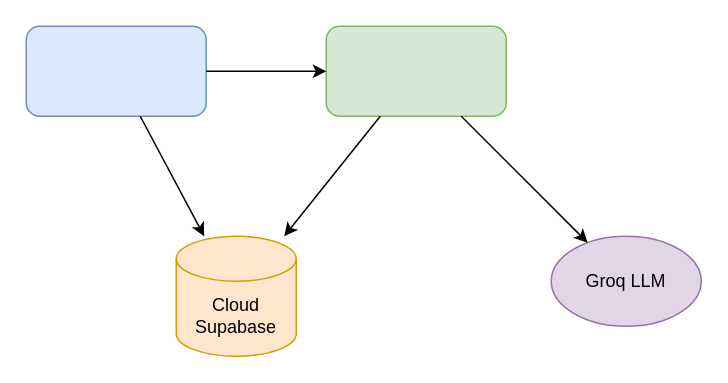
Image size: 728x383. Some labels were removed from this diagram. Each missing label, with the centre of its shape:
"FastAPI Backend" goes at (415,70).
"React Frontend" goes at (115,70).
